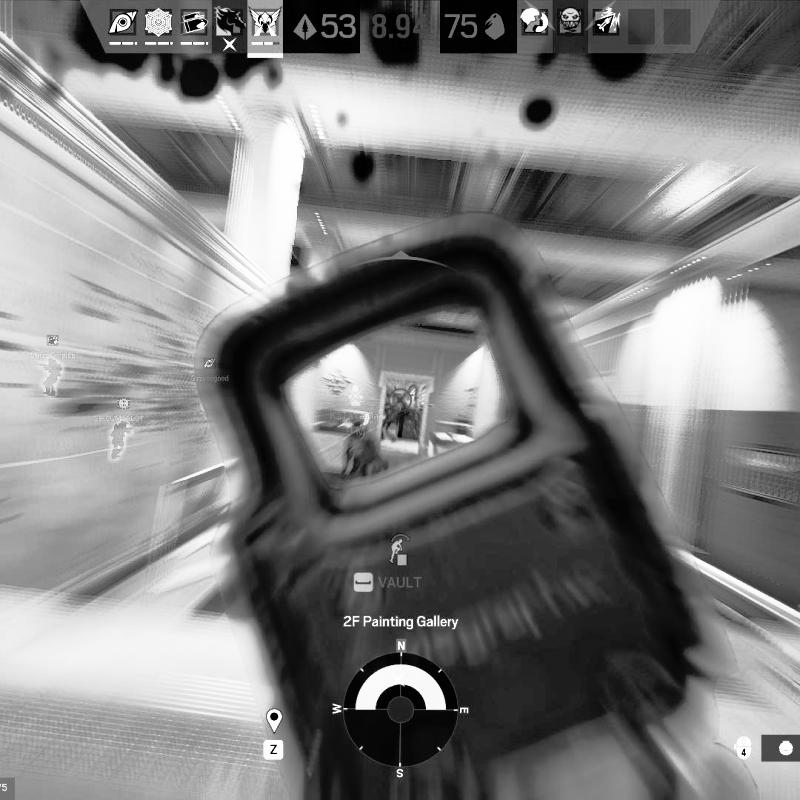Character: (342, 420, 389, 482), (381, 396, 399, 444)
Friend_label: (94, 395, 151, 423), (27, 333, 78, 361), (188, 355, 232, 383)
Head: (352, 419, 368, 434)
